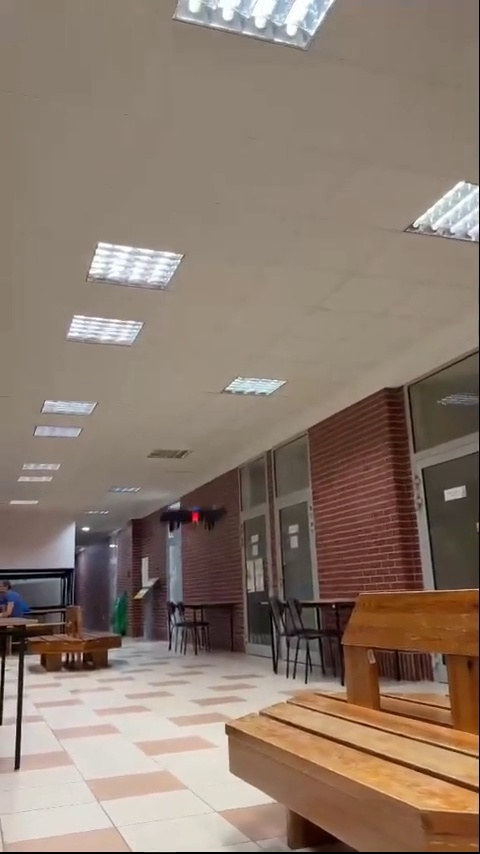drone: (157, 506, 223, 531)
no vest: (0, 579, 28, 622)
